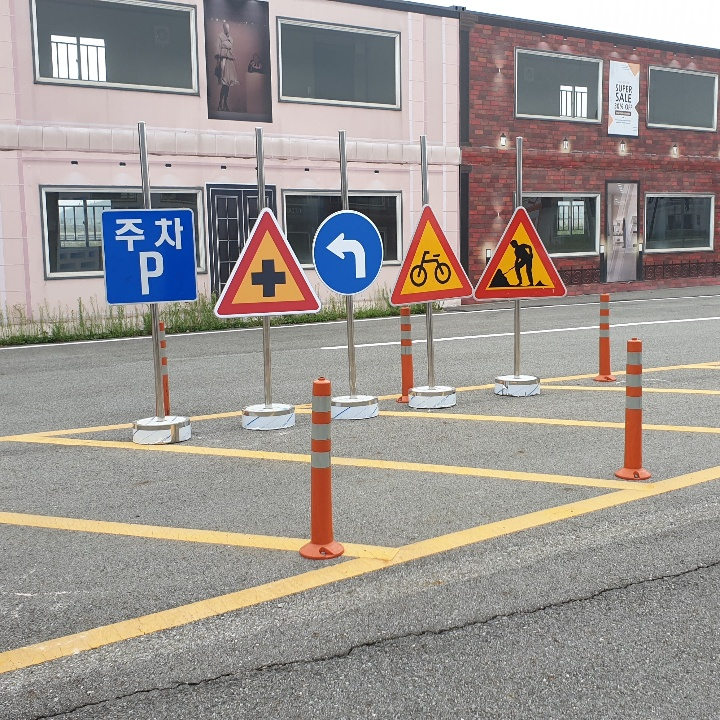bicycle: (392, 208, 471, 305)
const: (490, 231, 556, 291)
inter: (247, 255, 291, 305)
